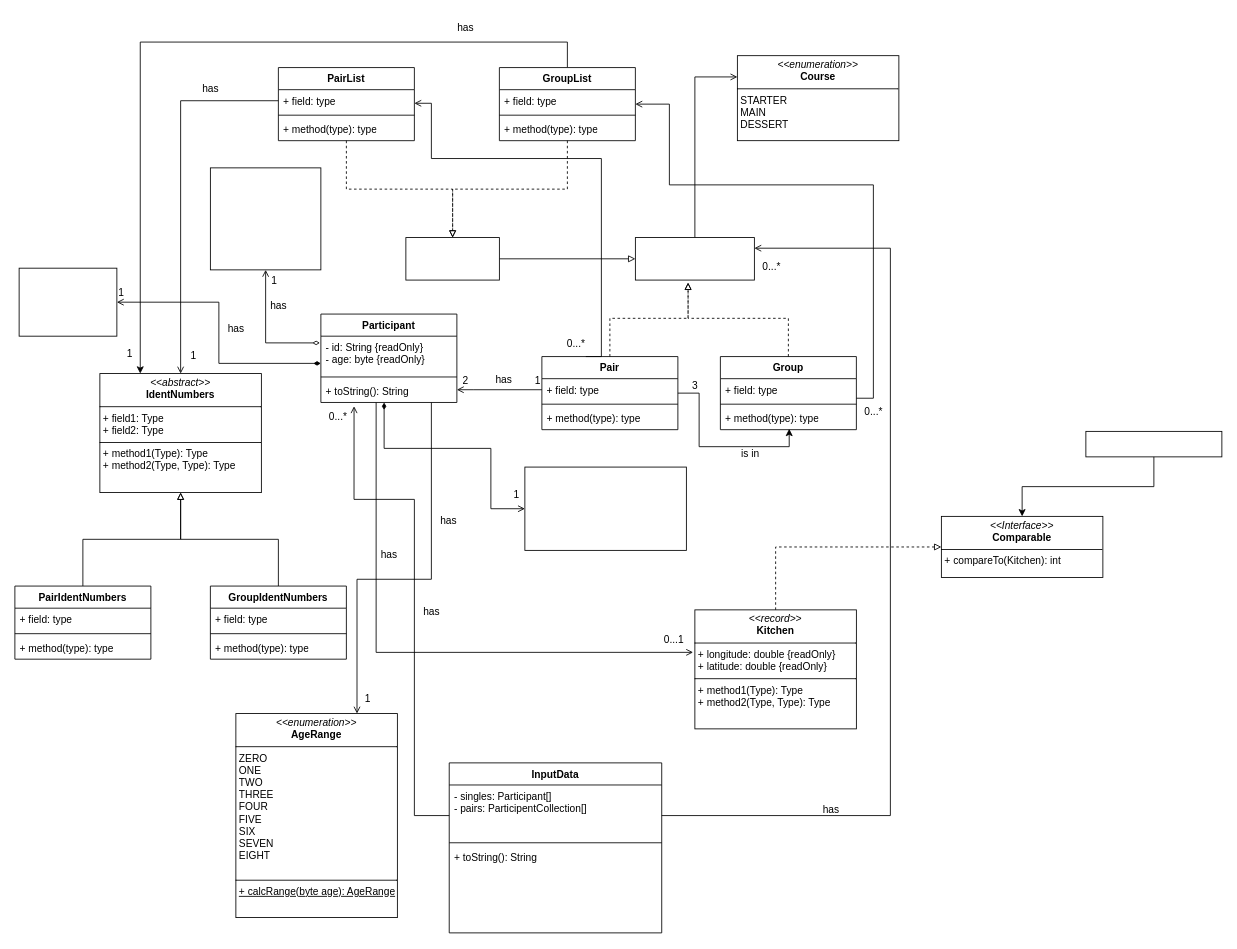
The diagram is 1237 pixels wide and 949 high, and some of its shapes have lost their labels. The shapes that lost their labels are listed below. From the top down, each one's centre as x and y in pixels, then its label:
(265,218): <<enumeration>> FoodType VEGGIE VEGAN MEAT NONE
(452,258): «interface» ParticipantList
(694,258): «interface» ParticipantCollection
(67,301): <<record>> Name + first: String + last: String
(1153,444): Using java.lang.Comparable
(605,508): <<enumeration>> Gender MALE FEMALE OTHER
